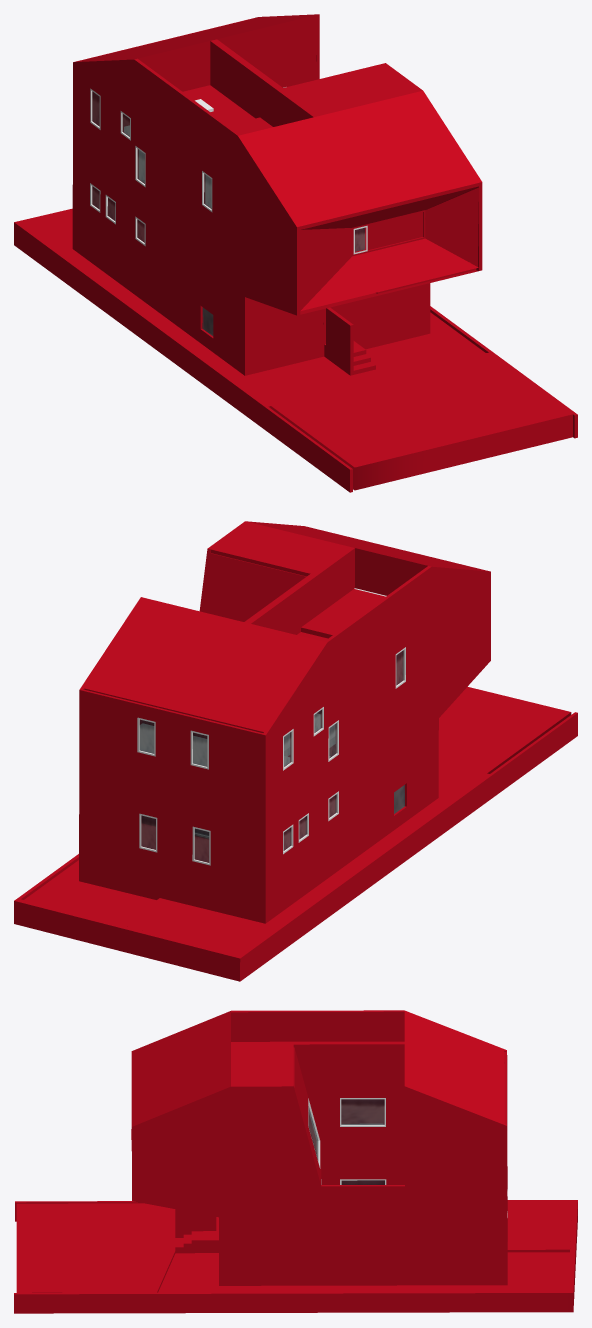
The model's file is asset.glb.
3 views of the same model, one above another, from view 1: azimuth 30°, elevation 25°; view 2: azimuth 150°, elevation 25°; view 3: azimuth 270°, elevation 25° (orthographic). The views are drawn at different scales.
Visible parts, largest first — view 1: 3D_FACADE_BLACK, 3D_FIRST FLOOR, 3D_FACADE_REFLECTIVE, 3D_SURROUNDING CONTEXT, 3D_WALL, 3D_WINDOW FRAMES, 3d_Glass, 3D_TURF, 3D_FACADE_REFLECTIVE.001, 3D_FLOOR, Windows frames, 3D_FACADE_WHITE; view 2: 3D_FACADE_BLACK, 3D_FIRST FLOOR, 3D_SURROUNDING CONTEXT, 3D_FACADE_WHITE, 3D_TURF, 3d_Glass, 3D_FLOOR, 3D_WINDOW FRAMES, Windows frames, 3D_WALL; view 3: 3D_FACADE_BLACK, 3D_FIRST FLOOR, 3D_SURROUNDING CONTEXT, 3D_FACADE_WHITE, 3D_TURF, 3d_Glass, Windows frames.
Part boxes in pixels (<box>): 3D_FACADE_BLACK: <box>72,14,482,363</box>; 3D_FIRST FLOOR: <box>31,212,572,490</box>; 3D_FACADE_REFLECTIVE: <box>300,186,478,314</box>; 3D_SURROUNDING CONTEXT: <box>14,208,577,492</box>; 3D_WALL: <box>141,18,316,91</box>; 3D_WINDOW FRAMES: <box>210,44,309,126</box>; 3d_Glass: <box>92,91,423,251</box>; 3D_TURF: <box>366,312,485,369</box>; 3D_FACADE_REFLECTIVE.001: <box>425,187,478,266</box>; 3D_FLOOR: <box>124,85,476,293</box>; Windows frames: <box>90,87,425,336</box>; 3D_FACADE_WHITE: <box>210,39,282,91</box>; 3D_FACADE_BLACK: <box>79,521,490,911</box>; 3D_FIRST FLOOR: <box>79,686,571,950</box>; 3D_SURROUNDING CONTEXT: <box>14,712,577,981</box>; 3D_FACADE_WHITE: <box>203,553,317,756</box>; 3D_TURF: <box>24,860,156,924</box>; 3d_Glass: <box>139,650,403,862</box>; 3D_FLOOR: <box>140,588,386,766</box>; 3D_WINDOW FRAMES: <box>254,552,354,634</box>; Windows frames: <box>137,647,405,865</box>; 3D_WALL: <box>142,551,424,838</box>; 3D_FACADE_BLACK: <box>131,1010,507,1272</box>; 3D_FIRST FLOOR: <box>16,1201,571,1292</box>; 3D_SURROUNDING CONTEXT: <box>14,1200,577,1313</box>; 3D_FACADE_WHITE: <box>293,1041,404,1184</box>; 3D_TURF: <box>158,1252,569,1292</box>; 3d_Glass: <box>308,1099,384,1184</box>; Windows frames: <box>308,1098,507,1217</box>.
Bounding box in the file's own units: 8.07 × 8.79 × 20.69.
6 materials, 1 textured.
